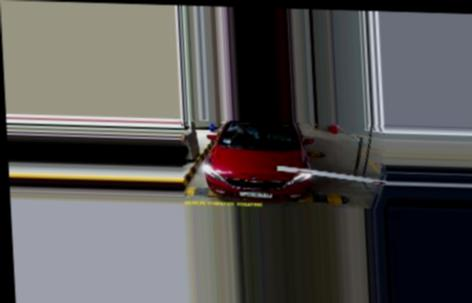License_Plate: (237, 187, 272, 200)
